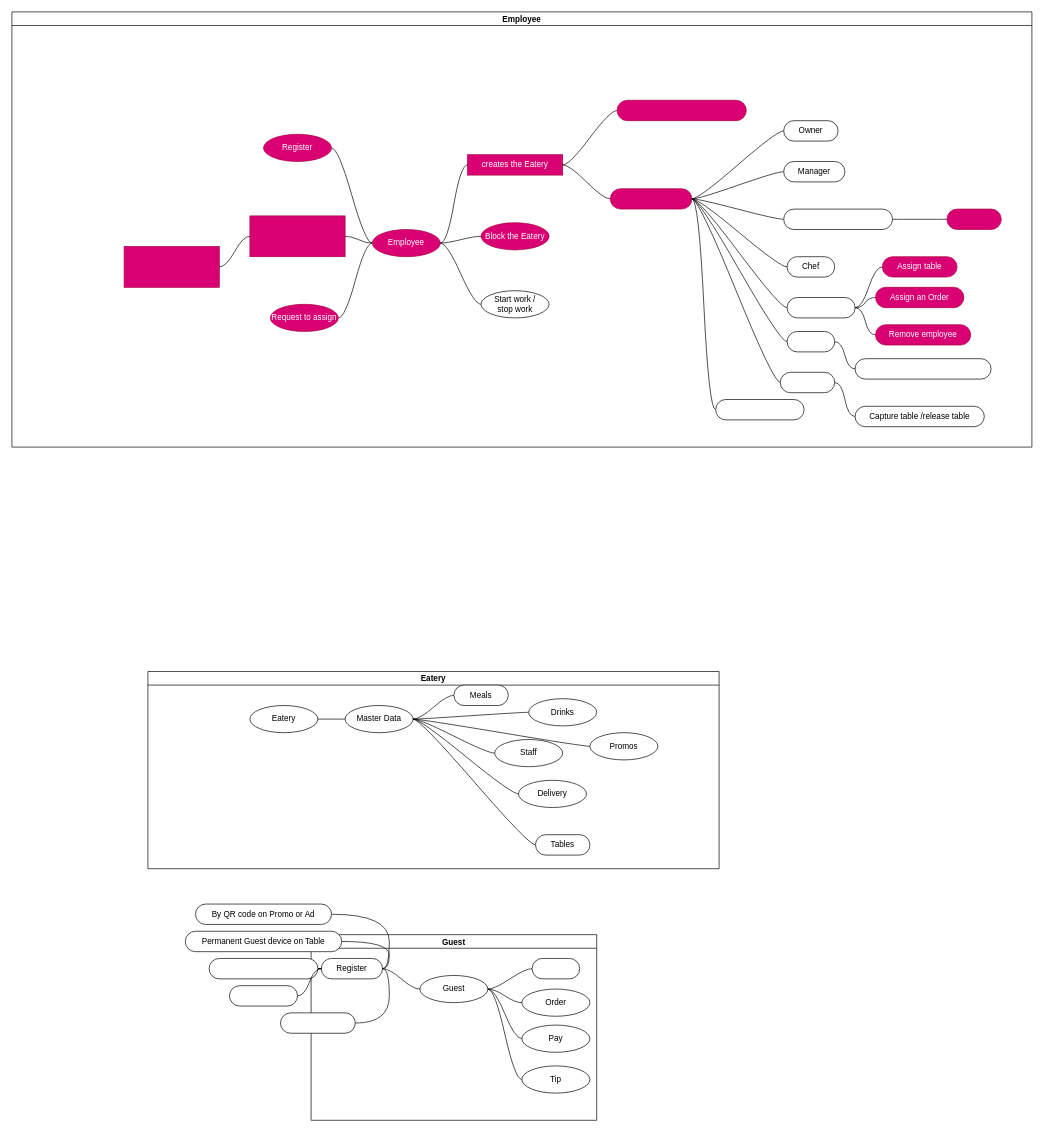
The diagram is 1044 pixels wide and 1132 high, and some of its shapes have lost their labels. Each missing label, with the centre of its shape:
"Assigns roles" belongs at point 651,198.
"Auth by Telegram and Login + password" belongs at point 297,236.
"Book" belongs at point 555,968.
"By Eatery" belongs at point 263,995.
"By QR Code on table" belongs at point 263,968.
"By telegram" belongs at point 317,1022.
"Capture order/ release order" belongs at point 922,368.
"Choose managers and staff" belongs at point 681,110.
"Cook" belongs at point 810,341.
"Delivery partner" belongs at point 759,409.
"Editing" belongs at point 973,219.
"Master data operator" belongs at point 838,219.
"restore password" belongs at point 171,266.
"sous-chef" belongs at point 820,307.
"Waiter" belongs at point 807,382.
